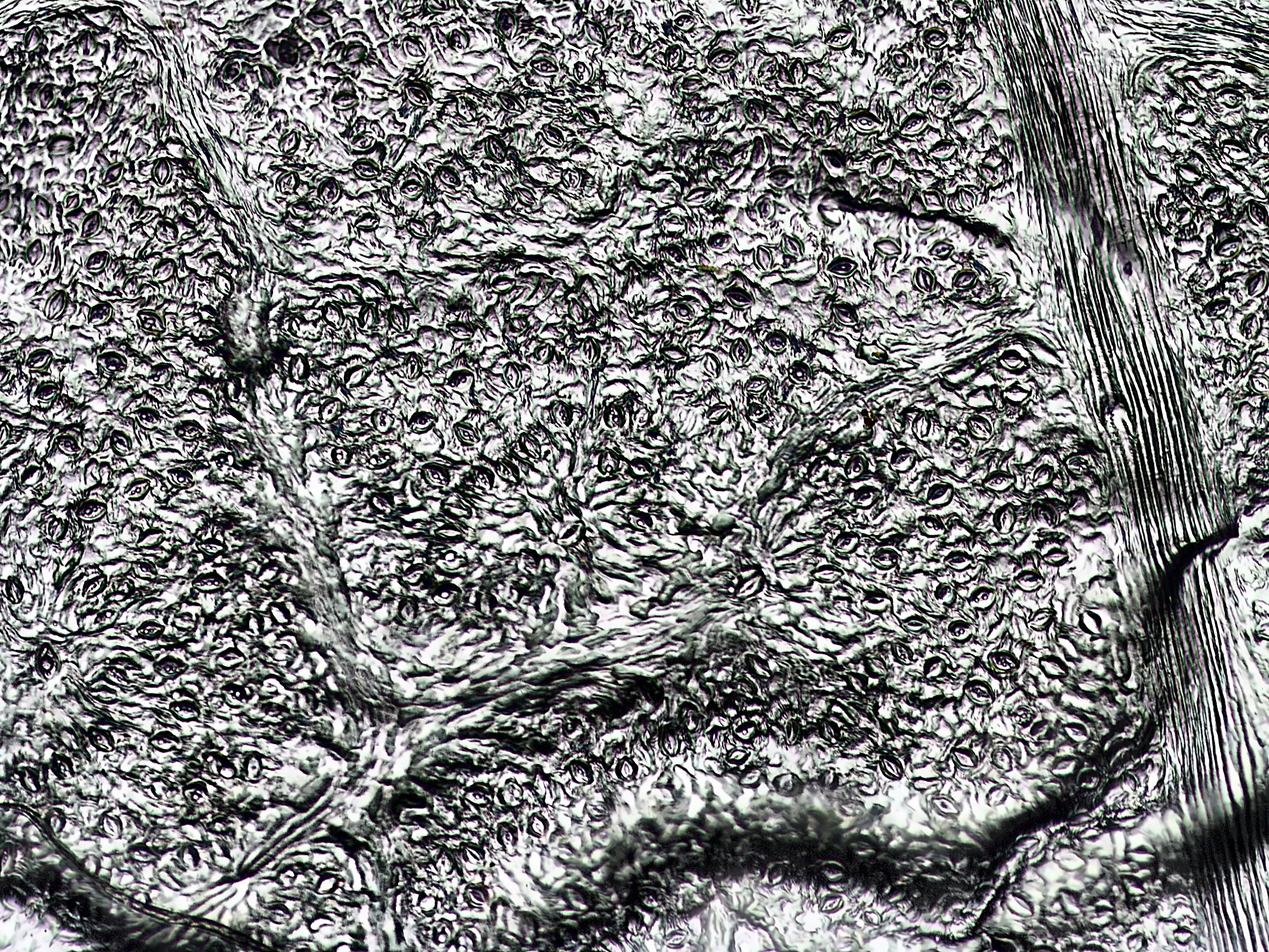stomata: (35, 643, 62, 680), (966, 678, 997, 707), (1032, 500, 1061, 530), (848, 111, 885, 134), (993, 501, 1018, 535), (899, 613, 932, 638), (1006, 889, 1034, 918), (136, 308, 167, 334), (560, 161, 585, 192), (1039, 655, 1071, 679), (43, 289, 68, 319), (404, 82, 434, 107), (464, 782, 494, 807), (496, 90, 527, 114), (499, 776, 523, 807), (1055, 846, 1086, 870), (149, 731, 181, 754), (153, 657, 188, 678), (818, 149, 846, 175), (982, 469, 1015, 491), (584, 16, 608, 46), (988, 650, 1022, 671), (347, 130, 378, 153), (829, 302, 860, 325), (495, 8, 517, 40), (926, 481, 953, 507), (557, 522, 585, 547), (870, 151, 894, 180), (843, 452, 867, 481), (889, 448, 918, 472), (722, 286, 752, 309), (422, 464, 452, 487), (730, 338, 753, 368), (169, 700, 199, 723), (193, 576, 229, 595), (324, 299, 346, 330), (824, 27, 855, 49), (87, 724, 112, 751), (812, 563, 844, 584), (484, 134, 507, 163), (766, 166, 795, 189), (51, 750, 74, 779), (1222, 137, 1251, 160), (97, 352, 127, 374), (387, 302, 409, 332), (501, 361, 523, 391), (827, 257, 860, 277), (76, 500, 107, 521), (436, 162, 462, 187), (708, 148, 733, 174), (81, 573, 106, 599), (550, 401, 576, 426), (878, 755, 904, 780), (110, 429, 134, 456), (266, 601, 293, 625), (98, 812, 122, 839), (455, 93, 478, 121), (744, 98, 767, 126), (220, 683, 248, 706), (928, 139, 957, 161), (179, 820, 208, 842), (1219, 87, 1248, 109), (1026, 607, 1055, 629), (950, 747, 979, 769), (914, 264, 935, 294), (87, 302, 112, 327), (218, 644, 243, 669), (147, 361, 173, 385), (781, 232, 805, 258), (431, 584, 457, 608), (135, 406, 162, 429), (520, 432, 543, 459), (967, 417, 994, 440), (919, 514, 946, 537), (736, 574, 763, 597), (869, 549, 900, 569), (819, 859, 850, 879), (288, 353, 310, 381), (873, 237, 902, 258), (496, 824, 517, 853), (1246, 268, 1267, 297), (84, 250, 109, 274), (403, 36, 428, 60), (747, 654, 772, 678), (19, 767, 42, 793), (75, 29, 97, 56), (256, 63, 278, 90), (409, 411, 436, 433), (131, 558, 158, 580), (527, 813, 549, 840), (183, 785, 210, 807), (442, 494, 469, 516), (1063, 720, 1090, 742), (582, 336, 601, 367), (176, 421, 204, 442), (461, 886, 489, 907), (352, 159, 381, 179), (755, 195, 775, 224), (1050, 757, 1079, 777), (1031, 463, 1055, 487), (892, 641, 916, 665), (985, 784, 1009, 808), (765, 862, 789, 886), (541, 122, 564, 147), (345, 365, 368, 390), (789, 360, 812, 385), (461, 843, 486, 866), (948, 620, 973, 643), (279, 129, 301, 155), (449, 370, 475, 392), (497, 456, 519, 482), (616, 756, 638, 782), (659, 727, 678, 757), (1014, 571, 1044, 590), (23, 25, 44, 52), (319, 178, 340, 205), (788, 59, 809, 86), (811, 110, 832, 137), (124, 479, 151, 500), (1001, 349, 1028, 370), (970, 587, 997, 608), (26, 238, 46, 266), (752, 245, 772, 273), (661, 343, 689, 363), (137, 530, 165, 550), (138, 620, 166, 640), (943, 550, 971, 570), (529, 58, 560, 76), (924, 28, 948, 51), (931, 79, 955, 102), (922, 189, 945, 213), (819, 204, 843, 227), (570, 762, 594, 785), (924, 656, 947, 680), (359, 301, 378, 330), (366, 451, 395, 470), (5, 574, 24, 603), (1003, 385, 1032, 404), (1012, 836, 1041, 855), (343, 42, 368, 64), (902, 114, 927, 136), (952, 268, 977, 290), (599, 449, 621, 474), (407, 217, 433, 238), (708, 49, 734, 70), (660, 245, 686, 266), (604, 402, 625, 428), (1240, 313, 1261, 339), (864, 591, 890, 612), (1012, 705, 1038, 726), (24, 349, 51, 369), (448, 321, 475, 341), (663, 44, 683, 71), (701, 351, 721, 378), (1174, 103, 1201, 123), (1248, 200, 1268, 227), (852, 488, 879, 508), (215, 268, 234, 296), (685, 187, 713, 206), (928, 241, 956, 260), (188, 390, 216, 409), (168, 469, 196, 488), (127, 844, 155, 863), (155, 221, 177, 245), (577, 104, 601, 126), (319, 399, 341, 423), (455, 422, 479, 444), (681, 704, 702, 729), (819, 719, 840, 744), (819, 894, 844, 915), (47, 137, 73, 157), (278, 38, 298, 64), (450, 28, 470, 54), (907, 148, 927, 174), (992, 746, 1012, 772), (933, 797, 959, 817), (153, 158, 172, 185), (243, 752, 262, 779), (1044, 548, 1071, 567), (435, 523, 465, 540), (153, 259, 175, 282), (572, 60, 594, 83), (402, 561, 425, 583), (35, 381, 59, 402), (277, 171, 298, 195), (57, 434, 81, 455), (198, 539, 226, 557), (257, 564, 281, 585), (399, 179, 424, 199), (759, 58, 779, 83), (629, 459, 654, 479), (849, 836, 874, 856), (33, 194, 52, 220), (354, 213, 380, 232), (948, 0, 974, 19), (243, 609, 262, 635), (1081, 609, 1100, 635), (406, 351, 423, 380), (82, 212, 100, 239), (673, 300, 695, 322), (19, 465, 42, 486), (865, 655, 888, 676), (698, 106, 722, 126), (373, 408, 393, 432), (766, 330, 786, 354), (104, 666, 128, 686), (180, 844, 200, 868), (937, 582, 957, 606), (182, 198, 201, 223), (289, 200, 314, 219), (1217, 238, 1242, 257), (784, 719, 803, 744), (267, 906, 293, 924), (1175, 162, 1201, 180), (101, 164, 123, 185), (890, 48, 911, 70), (1207, 298, 1229, 319), (844, 672, 866, 693), (65, 97, 88, 117), (662, 212, 685, 232), (836, 533, 859, 553), (645, 431, 672, 448), (333, 91, 357, 110), (957, 187, 976, 211), (223, 375, 242, 399), (490, 275, 515, 293), (568, 297, 586, 322), (628, 30, 646, 55), (17, 117, 34, 143), (471, 465, 490, 488), (706, 404, 729, 423), (93, 608, 116, 627), (38, 82, 54, 109), (708, 232, 732, 250), (49, 808, 66, 833), (372, 493, 392, 514), (1249, 374, 1269, 395), (329, 445, 348, 467), (734, 721, 756, 740), (913, 411, 929, 437), (308, 7, 331, 25), (746, 376, 769, 394), (1203, 187, 1226, 205), (726, 747, 750, 764), (1254, 126, 1269, 153), (534, 343, 554, 363), (737, 0, 760, 17), (315, 877, 338, 894), (222, 62, 241, 82), (517, 186, 536, 206), (48, 515, 65, 537), (675, 11, 693, 31), (1225, 356, 1240, 379), (1121, 771, 1137, 792), (1174, 207, 1191, 226), (63, 192, 79, 211), (426, 0, 451, 11), (198, 303, 215, 319), (0, 422, 11, 446), (0, 188, 10, 213)
